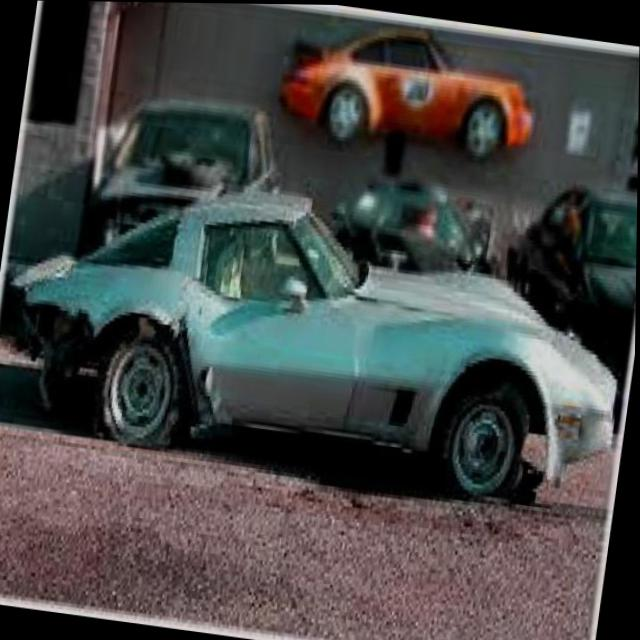Car-Damage: (0, 251, 243, 447)
